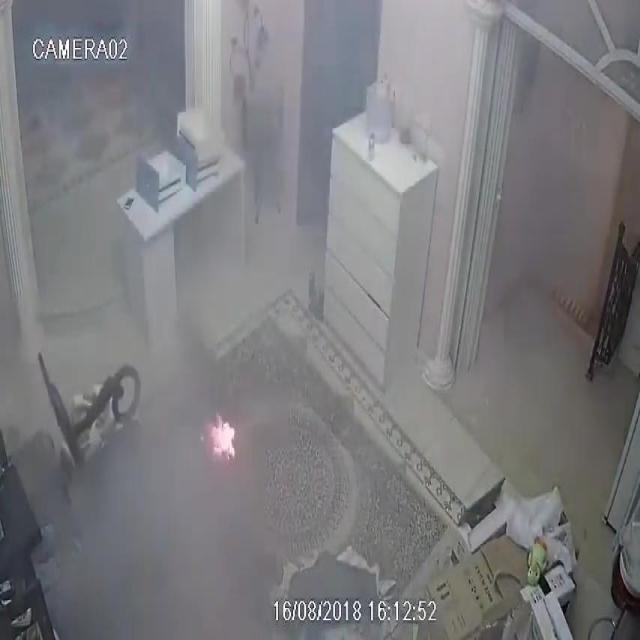fire: (207, 415, 236, 461)
